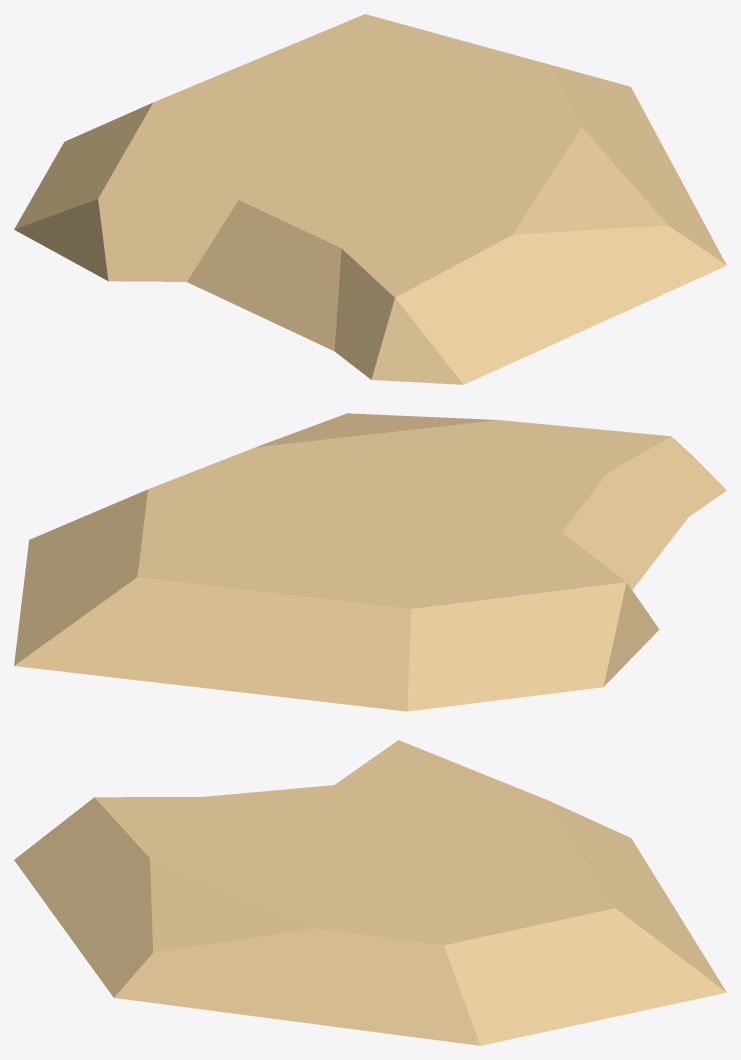
The model's file is Mesh_FloorStone3.glb.
The picture shows the model from 3 angles, top to bottom: view 1: azimuth 30°, elevation 25°; view 2: azimuth 150°, elevation 25°; view 3: azimuth 270°, elevation 25°; orthographic projection. The views are drawn at different scales.
Visible parts, largest first — view 1: Cube.040; view 2: Cube.040; view 3: Cube.040.
Part boxes in pixels (x1,y1,x2,y2): Cube.040: (14,14,726,384); Cube.040: (14,413,726,711); Cube.040: (14,740,726,1045).
Size of the model in its own units: 5.16 by 0.5113 by 5.92.
